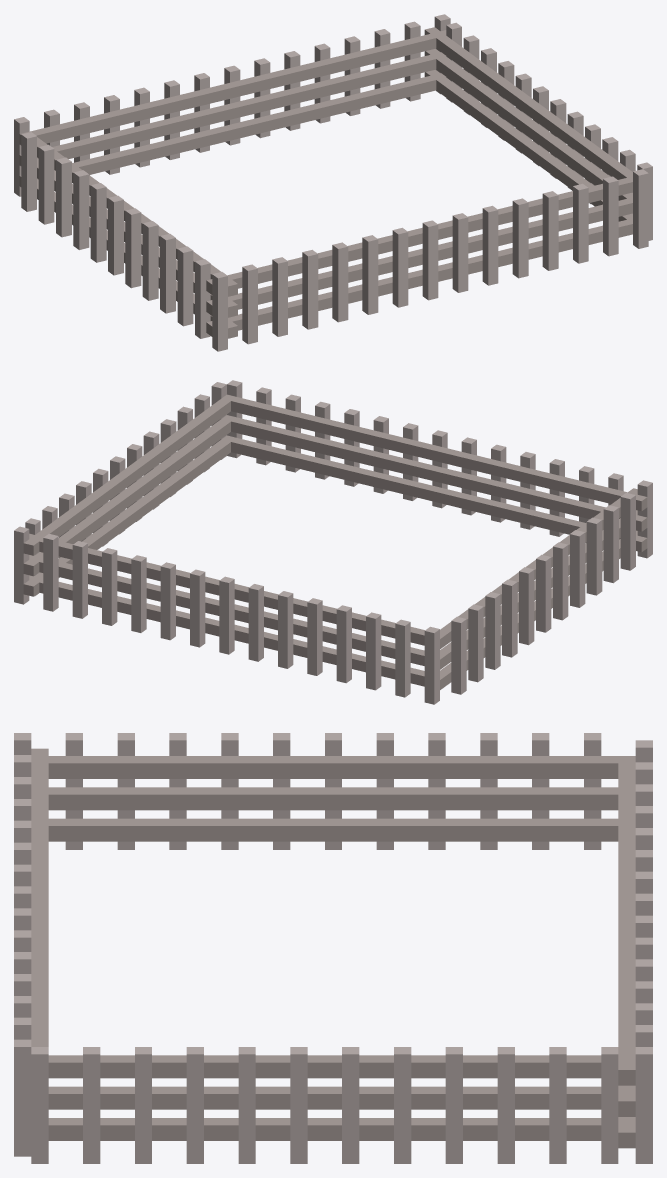
File: granjafinal_valla4.obj
3 views of the same model, one above another, from view 1: azimuth 30°, elevation 25°; view 2: azimuth 150°, elevation 25°; view 3: azimuth 270°, elevation 25° (orthographic). The views are drawn at different scales.
Size of the model in its own units: 4.4 by 0.7 by 3.7.
1 material, 1 textured.
